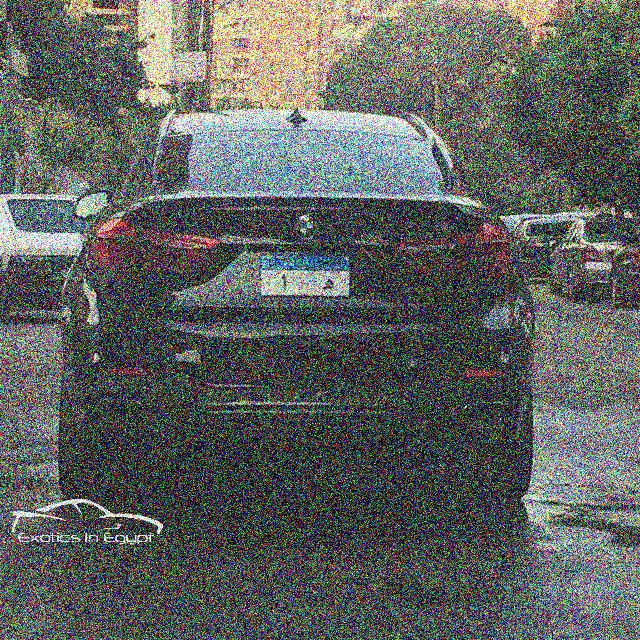License Plate: (259, 250, 352, 299)
